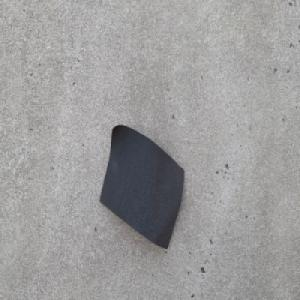PaintChip: (98, 123, 185, 251)
